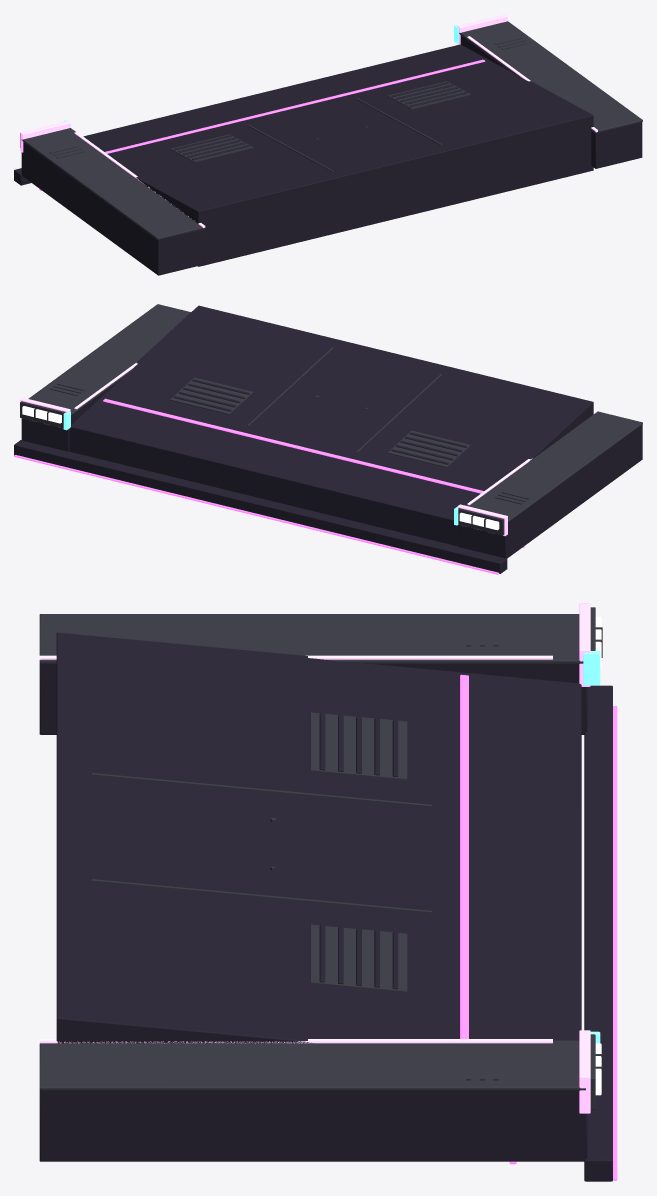
Rendered from hood.glb.
The picture shows the model from 3 angles, top to bottom: view 1: azimuth 30°, elevation 25°; view 2: azimuth 150°, elevation 25°; view 3: azimuth 270°, elevation 25°; orthographic projection. The views are drawn at different scales.
Visible parts, largest first — view 1: hood; view 2: hood; view 3: hood.
Boxes of the visible parts, left/top/right/bottom form: hood: left=14, top=14, right=642, bottom=275; hood: left=14, top=304, right=642, bottom=574; hood: left=39, top=603, right=617, bottom=1181.
Bounding box in the file's own units: 19.7 × 2.32 × 10.13.
